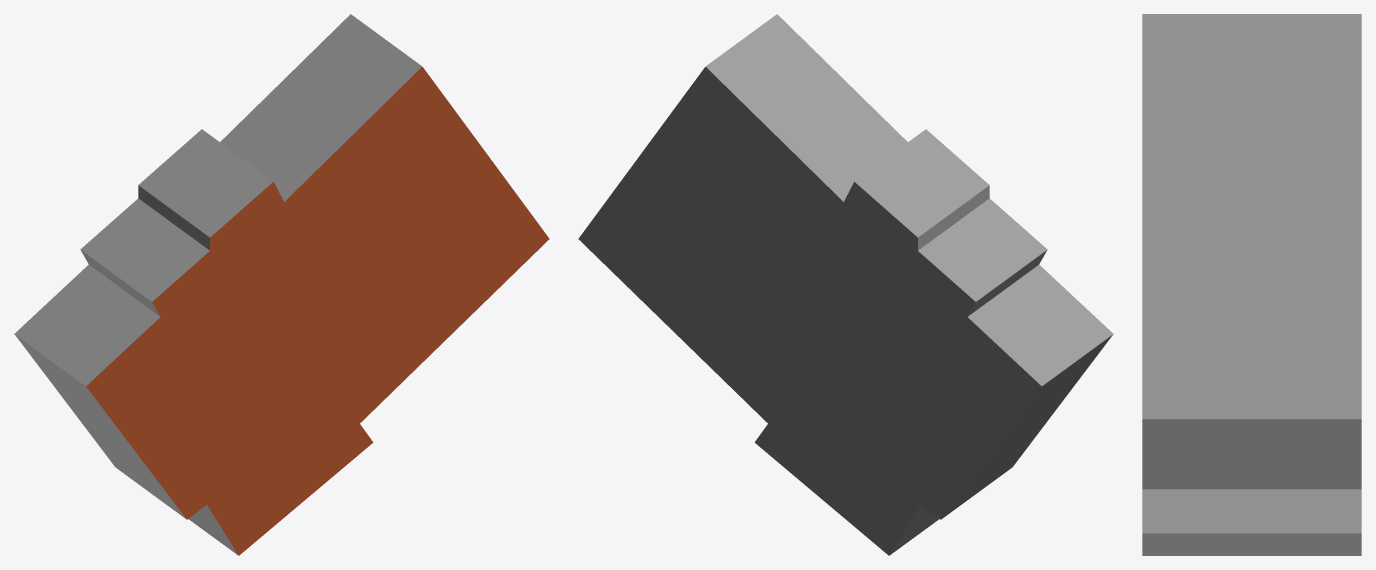
File: construction_5298_assumed_A_Casa_h6m.obj
3 renders of one model, left to right at view 1: azimuth 30°, elevation 25°; view 2: azimuth 150°, elevation 25°; view 3: azimuth 270°, elevation 25°, orthographic. The views are drawn at different scales.
Parts seen in each view (by area): view 1: construction_5298_assumed_A_Casa; view 2: construction_5298_assumed_A_Casa; view 3: construction_5298_assumed_A_Casa.
Boxes of the visible parts, x1,y1,x2,y2 form: construction_5298_assumed_A_Casa: [14, 14, 549, 555]; construction_5298_assumed_A_Casa: [578, 14, 1113, 555]; construction_5298_assumed_A_Casa: [1142, 14, 1361, 555].
Size of the model in its own units: 22.39 by 20.52 by 6.
